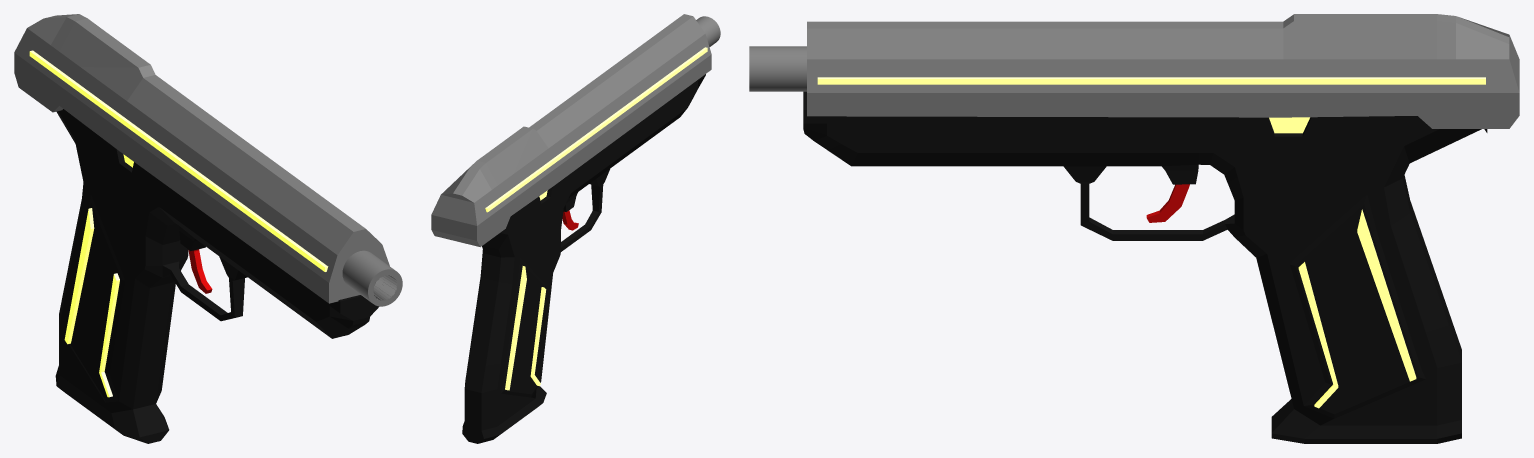
File: Pistol.fbx
3 views of the same model, side by side, from view 1: azimuth 30°, elevation 25°; view 2: azimuth 150°, elevation 25°; view 3: azimuth 270°, elevation 25° (orthographic). The views are drawn at different scales.
Visible parts, largest first — view 1: Handel, Hammer, GlowHammer, Pipe, Energy.001, Energy.002, Zrigger; view 2: Handel, Hammer, GlowHammer, Energy.001, Energy.002, Pipe; view 3: Handel, Hammer, GlowHammer, Pipe, Energy.001, Energy.002.
Boxes of the visible parts, x1,y1,x2,y2 form: Handel: (55,109,379,443); Hammer: (14,14,389,303); GlowHammer: (29,50,328,271); Pipe: (342,250,402,306); Energy.001: (64,208,94,344); Energy.002: (99,273,119,397); Zrigger: (188,249,212,293); Handel: (462,74,705,443); Hammer: (431,14,711,247); GlowHammer: (485,47,707,212); Energy.001: (505,266,526,390); Energy.002: (530,287,546,386); Pipe: (696,16,720,46); Handel: (803,91,1487,443); Hammer: (807,14,1519,128); GlowHammer: (817,77,1485,84); Pipe: (749,46,806,91); Energy.001: (1357,209,1416,381); Energy.002: (1298,262,1338,408).
Size of the model in its own units: 49.47 by 284 by 474.
